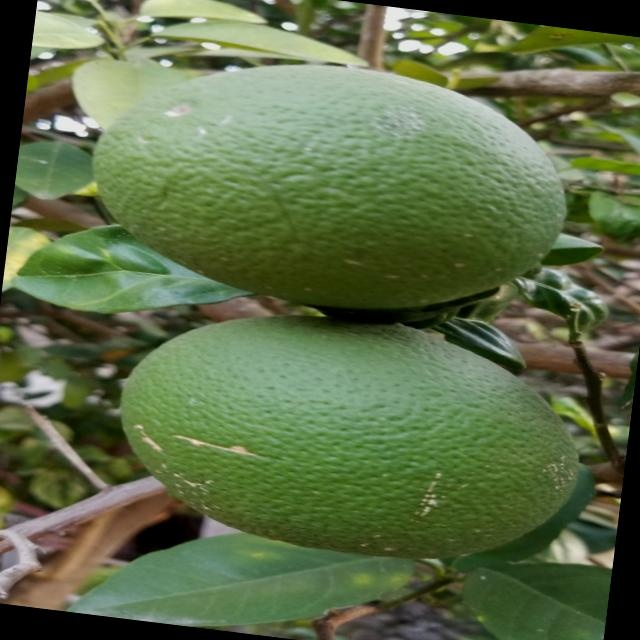agrume: (75, 32, 591, 336), (95, 295, 593, 580)
